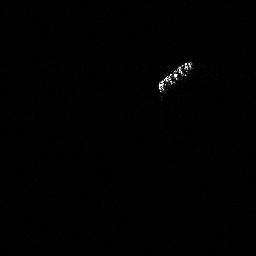ship: (158, 59, 195, 98)
